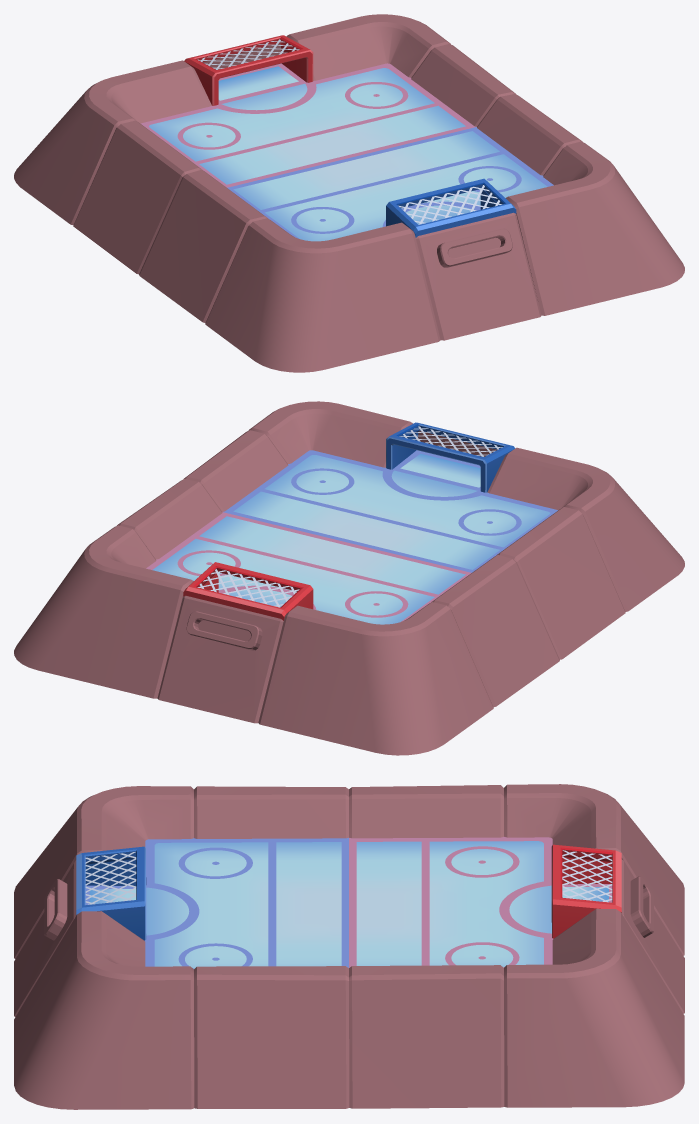
Rendered from slipperystriker-lit.glb.
3 views of the same model, one above another, from view 1: azimuth 30°, elevation 25°; view 2: azimuth 150°, elevation 25°; view 3: azimuth 270°, elevation 25° (orthographic). The views are drawn at different scales.
Visible parts, largest first — view 1: airhockey_Main_foundation, airhockey_ice_Ground, airhockey_Ground, airhockey_front_foundation001, red_goal, blue_goal, airhockey_front_foundation, blue_goal_net, red_goal_net; view 2: airhockey_Main_foundation, airhockey_ice_Ground, airhockey_Ground, airhockey_front_foundation001, blue_goal, red_goal, airhockey_front_foundation, red_goal_net, blue_goal_net; view 3: airhockey_Main_foundation, airhockey_ice_Ground, airhockey_Ground, airhockey_front_foundation001, red_goal, blue_goal, airhockey_front_foundation, blue_goal_net, red_goal_net.
Part boxes in pixels (bbox=[...]): airhockey_Main_foundation: bbox=[14, 14, 684, 372]; airhockey_ice_Ground: bbox=[149, 68, 547, 241]; airhockey_Ground: bbox=[140, 63, 553, 238]; airhockey_front_foundation001: bbox=[416, 212, 541, 340]; red_goal: bbox=[184, 35, 313, 105]; blue_goal: bbox=[386, 178, 516, 237]; airhockey_front_foundation: bbox=[202, 43, 512, 265]; blue_goal_net: bbox=[398, 185, 501, 224]; red_goal_net: bbox=[197, 39, 299, 69]; airhockey_Main_foundation: bbox=[14, 401, 684, 755]; airhockey_ice_Ground: bbox=[152, 455, 550, 624]; airhockey_Ground: bbox=[146, 450, 557, 621]; airhockey_front_foundation001: bbox=[157, 595, 283, 723]; blue_goal: bbox=[386, 422, 515, 492]; red_goal: bbox=[183, 562, 313, 620]; airhockey_front_foundation: bbox=[186, 431, 497, 650]; red_goal_net: bbox=[197, 569, 299, 607]; blue_goal_net: bbox=[399, 426, 502, 456]; airhockey_Main_foundation: bbox=[14, 784, 684, 1109]; airhockey_ice_Ground: bbox=[146, 841, 551, 968]; airhockey_Ground: bbox=[85, 837, 612, 968]; airhockey_front_foundation001: bbox=[14, 859, 684, 1016]; red_goal: bbox=[551, 844, 621, 938]; blue_goal: bbox=[76, 846, 146, 940]; airhockey_front_foundation: bbox=[44, 876, 653, 939]; blue_goal_net: bbox=[85, 852, 136, 904]; red_goal_net: bbox=[562, 850, 612, 902].
Bounding box in the file's own units: 28.29 × 6.36 × 33.09.
Materials: 1 (1 with a texture image).
